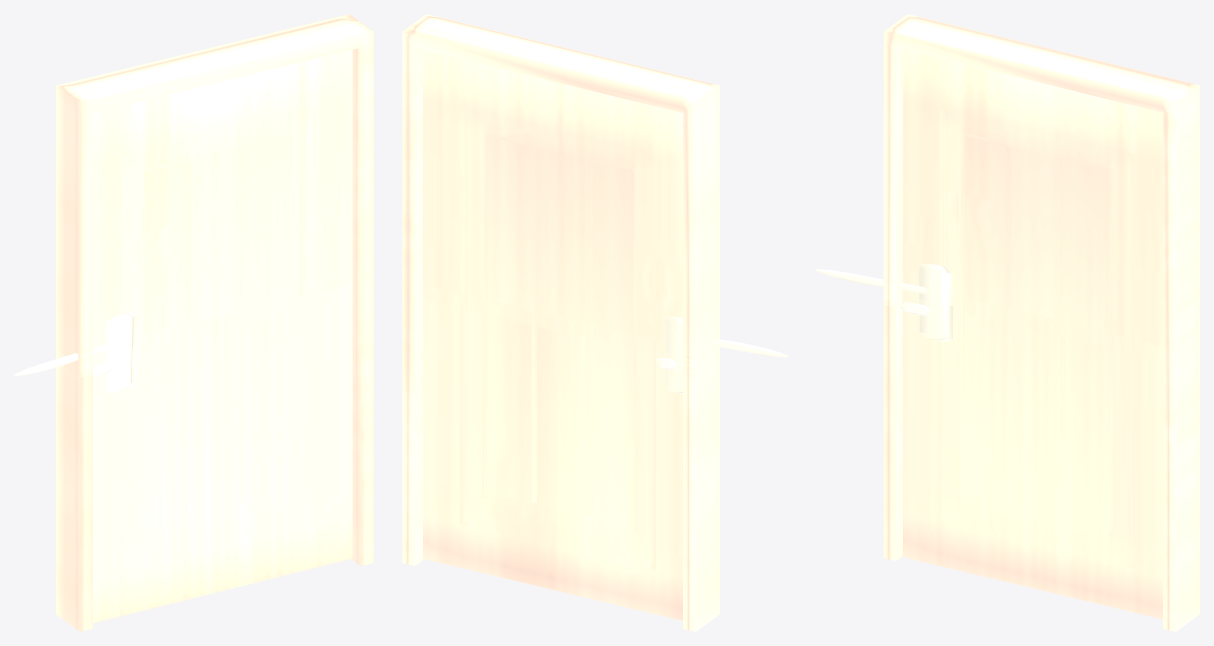
The model's file is door-only.glb.
The picture shows the model from 3 angles, left to right: view 1: azimuth 30°, elevation 25°; view 2: azimuth 150°, elevation 25°; view 3: azimuth 330°, elevation 25°; orthographic projection.
Visible parts, largest first — view 1: DoorBoddy, OutBoddy, Locker; view 2: DoorBoddy, OutBoddy, Locker%2E001, Locker; view 3: DoorBoddy, OutBoddy, Locker.
Boxes of the visible parts, x1=… form: DoorBoddy: x1=93, y1=50, x2=352, y2=623; OutBoddy: x1=56, y1=14, x2=373, y2=631; Locker: x1=14, y1=312, x2=137, y2=393; DoorBoddy: x1=423, y1=49, x2=682, y2=620; OutBoddy: x1=402, y1=14, x2=719, y2=631; Locker%2E001: x1=656, y1=316, x2=682, y2=393; Locker: x1=716, y1=339, x2=787, y2=357; DoorBoddy: x1=902, y1=49, x2=1162, y2=619; OutBoddy: x1=883, y1=14, x2=1199, y2=631; Locker: x1=816, y1=263, x2=952, y2=342.
Size of what is drawn, in the model's own units: 8.82 by 12.42 by 1.08.
Materials: 3 (3 with a texture image).
